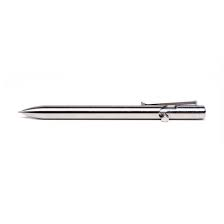qillqana: (13, 98, 211, 128)
